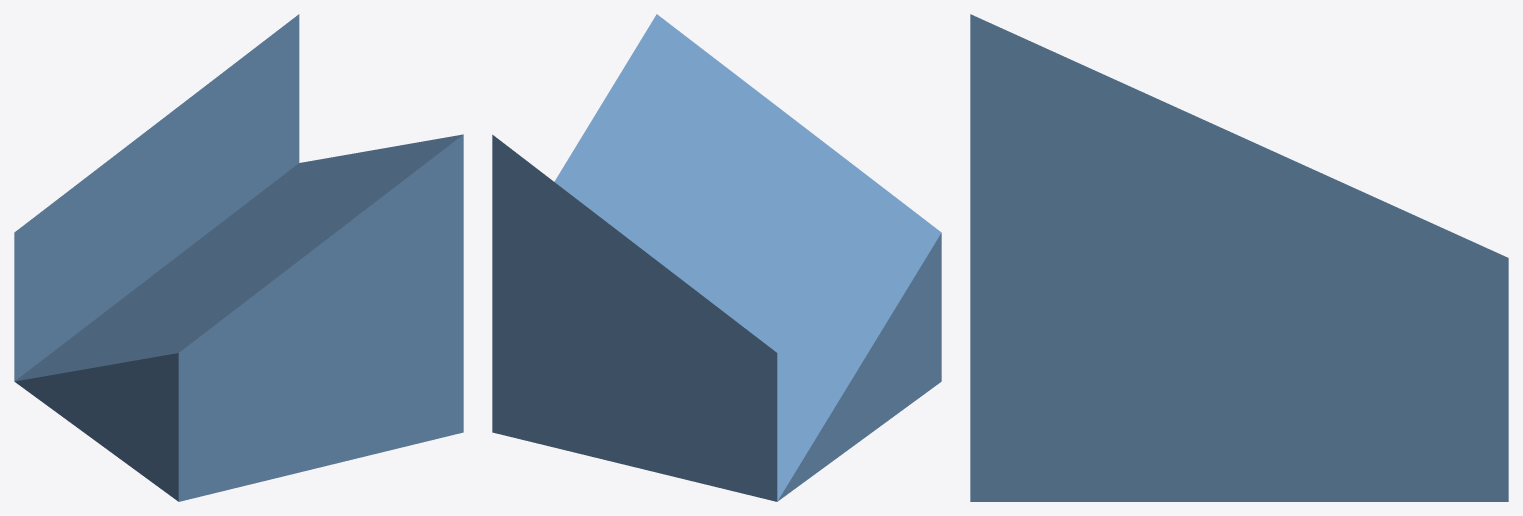
The model's file is Spawn_Corner.glb.
3 renders of one model, left to right at view 1: azimuth 30°, elevation 25°; view 2: azimuth 150°, elevation 25°; view 3: azimuth 270°, elevation 25°, orthographic. The views are drawn at different scales.
Visible parts, largest first — view 1: Spawn_Corner_body; view 2: Spawn_Corner_body; view 3: Spawn_Corner_body.
Part boxes in pixels (x1=…): Spawn_Corner_body: x1=14, y1=14, x2=463, y2=501; Spawn_Corner_body: x1=492, y1=14, x2=941, y2=501; Spawn_Corner_body: x1=970, y1=14, x2=1508, y2=501.
Size of the model in its own units: 1 by 1 by 1.
